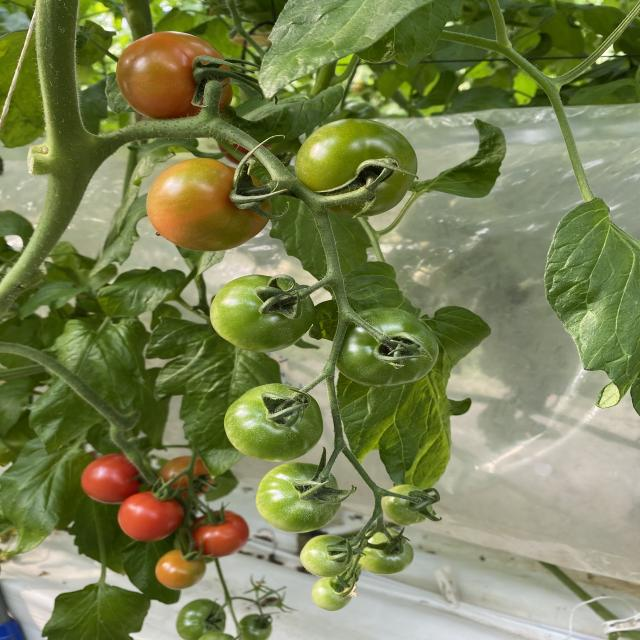c-half-riped: (146, 158, 273, 252), (116, 32, 233, 120), (156, 456, 214, 498), (154, 549, 206, 589)
c-riped: (117, 491, 184, 542), (80, 453, 141, 505), (187, 510, 250, 558)
c-unriped: (294, 117, 419, 217), (208, 273, 316, 352), (332, 309, 439, 388), (223, 382, 324, 460), (255, 461, 342, 533), (355, 528, 415, 574), (300, 534, 354, 577), (381, 484, 433, 527), (174, 598, 226, 640), (311, 577, 354, 612), (238, 614, 272, 640)
